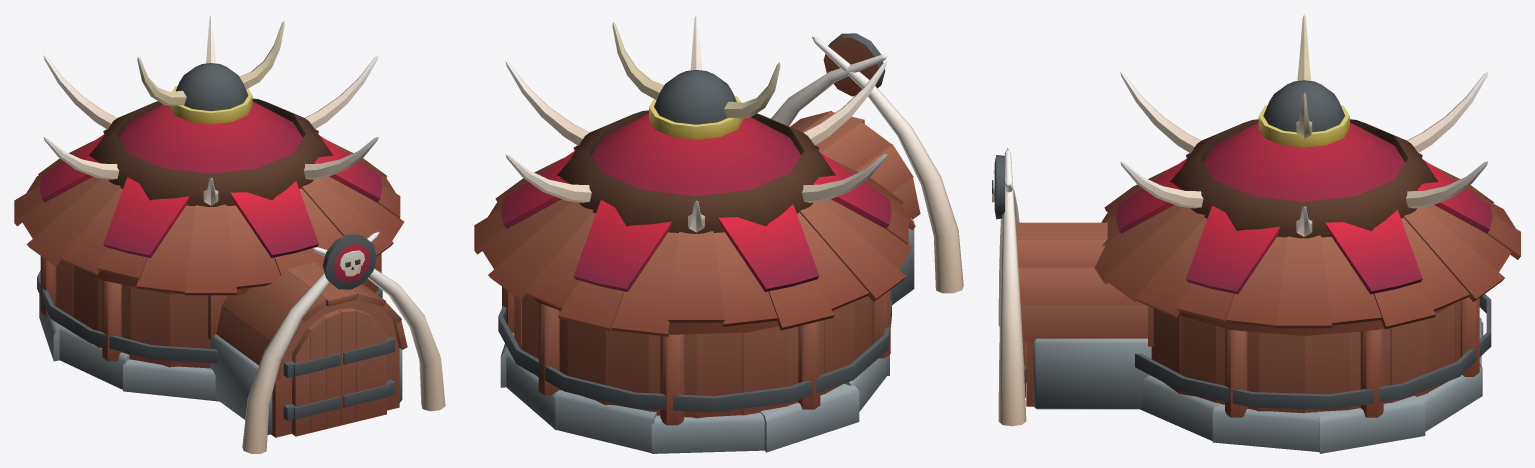
File: hut_chief.fbx
3 renders of one model, left to right at view 1: azimuth 30°, elevation 25°; view 2: azimuth 150°, elevation 25°; view 3: azimuth 270°, elevation 25°, orthographic. The views are drawn at different scales.
Parts seen in each view (by area): view 1: hut_chief, hut_chief_door_L, hut_chief_door_R; view 2: hut_chief; view 3: hut_chief.
Boxes of the visible parts, x1,y1,x2,y2 form: hut_chief: [14, 14, 445, 453]; hut_chief_door_L: [292, 309, 341, 436]; hut_chief_door_R: [338, 308, 389, 425]; hut_chief: [474, 14, 963, 453]; hut_chief: [992, 14, 1520, 453].
Bounding box in the file's own units: 3.71 × 3.08 × 4.57.
Materials: 1 (1 with a texture image).
